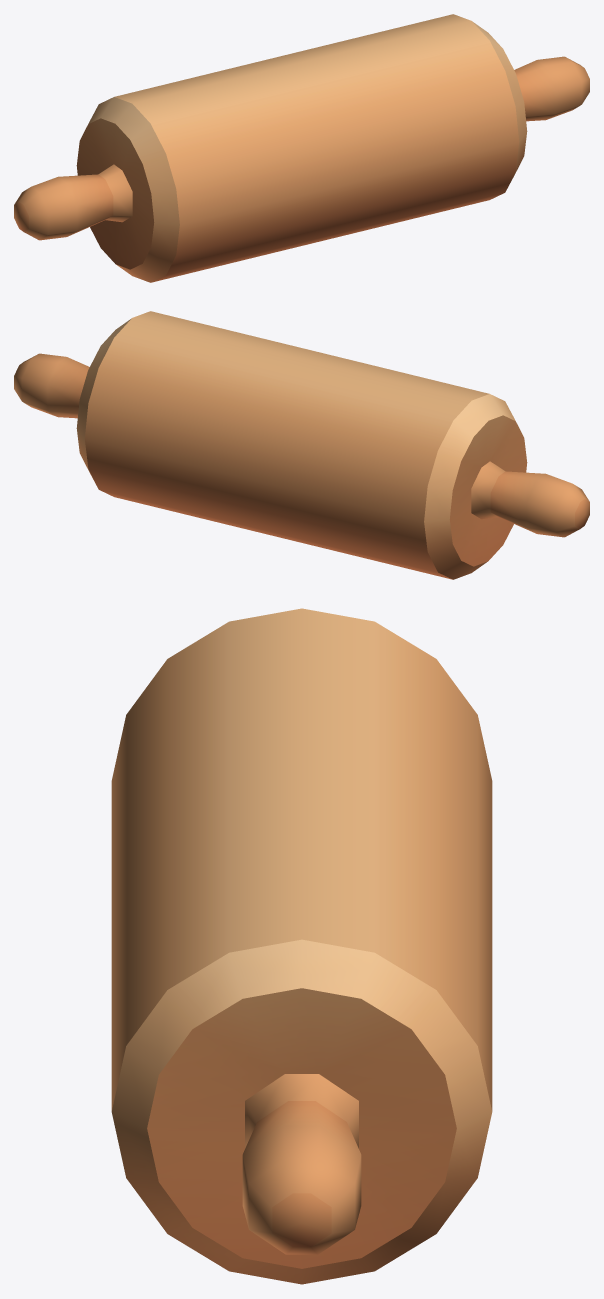
The model's file is rollingpin.obj.
3 renders of one model, top to bottom at view 1: azimuth 30°, elevation 25°; view 2: azimuth 150°, elevation 25°; view 3: azimuth 270°, elevation 25°, orthographic. The views are drawn at different scales.
Parts seen in each view (by area): view 1: rollingpin_Cube.466; view 2: rollingpin_Cube.466; view 3: rollingpin_Cube.466.
Boxes of the visible parts, x1,y1,x2,y2 form: rollingpin_Cube.466: (14,14,589,282); rollingpin_Cube.466: (14,311,589,579); rollingpin_Cube.466: (111,608,492,1284).
Size of the model in its own units: 1.48 by 0.43 by 0.43.
Materials: 1 (1 with a texture image).
